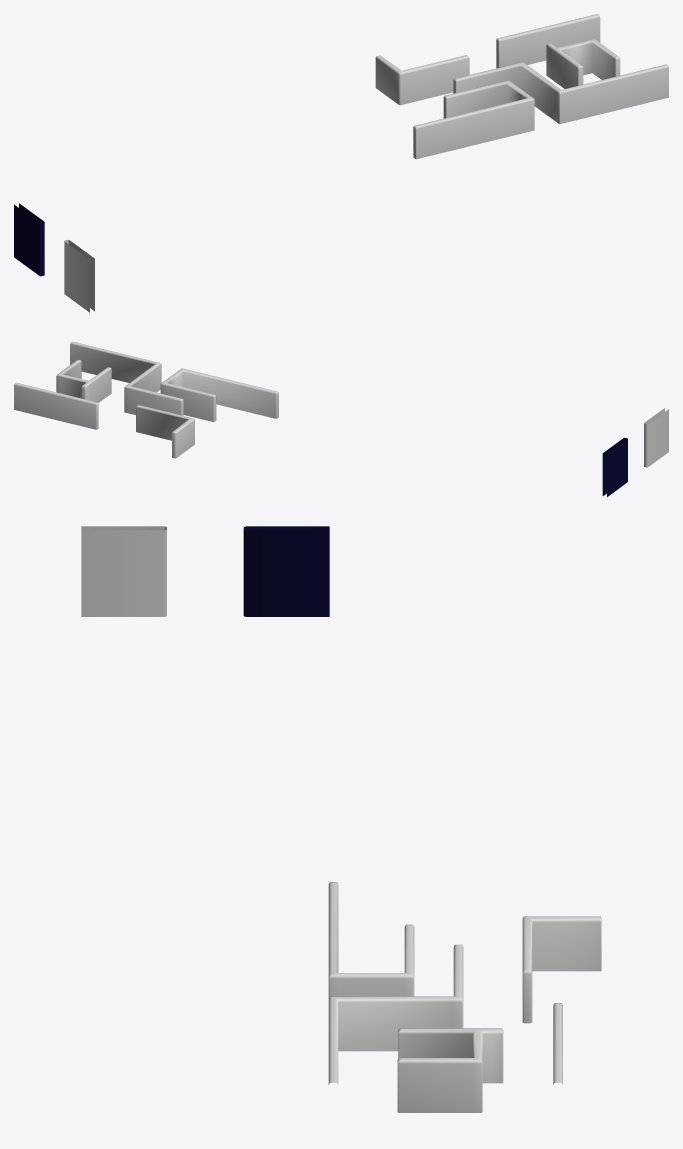
Rendered from LVL3_InternalGeo.fbx.
3 views of the same model, one above another, from view 1: azimuth 30°, elevation 25°; view 2: azimuth 150°, elevation 25°; view 3: azimuth 270°, elevation 25° (orthographic). The views are drawn at different scales.
Parts seen in each view (by area): view 1: MazeWall_R, MazeWall_L, MazeWall_L2, MazeWall_R3, MazeWall_R2, StorageRoom_WallB, StorageRoom_WallF; view 2: MazeWall_L, MazeWall_R, MazeWall_R3, MazeWall_L2, MazeWall_R2, StorageRoom_WallB, StorageRoom_WallF; view 3: MazeWall_R2, StorageRoom_WallB, StorageRoom_WallF, MazeWall_R, MazeWall_L2, MazeWall_L.
Part boxes in pixels (x1=…): MazeWall_R: x1=453, y1=62, x2=668, y2=124; MazeWall_L: x1=413, y1=80, x2=534, y2=159; MazeWall_L2: x1=375, y1=55, x2=469, y2=105; MazeWall_R3: x1=496, y1=14, x2=600, y2=68; MazeWall_R2: x1=546, y1=39, x2=620, y2=88; StorageRoom_WallB: x1=14, y1=203, x2=44, y2=276; StorageRoom_WallF: x1=64, y1=240, x2=94, y2=312; MazeWall_L: x1=160, y1=368, x2=278, y2=422; MazeWall_R: x1=70, y1=341, x2=183, y2=415; MazeWall_R3: x1=14, y1=382, x2=98, y2=429; MazeWall_L2: x1=136, y1=405, x2=194, y2=458; MazeWall_R2: x1=56, y1=359, x2=111, y2=402; StorageRoom_WallB: x1=602, y1=437, x2=627, y2=496; StorageRoom_WallF: x1=644, y1=408, x2=668, y2=467; MazeWall_R2: x1=397, y1=1028, x2=503, y2=1112; StorageRoom_WallB: x1=243, y1=526, x2=329, y2=616; StorageRoom_WallF: x1=81, y1=526, x2=166, y2=616; MazeWall_R: x1=328, y1=944, x2=463, y2=1084; MazeWall_L2: x1=522, y1=916, x2=601, y2=1023; MazeWall_L: x1=328, y1=882, x2=414, y2=998.
Size of the model in its own units: 2547 by 197 by 1074.
